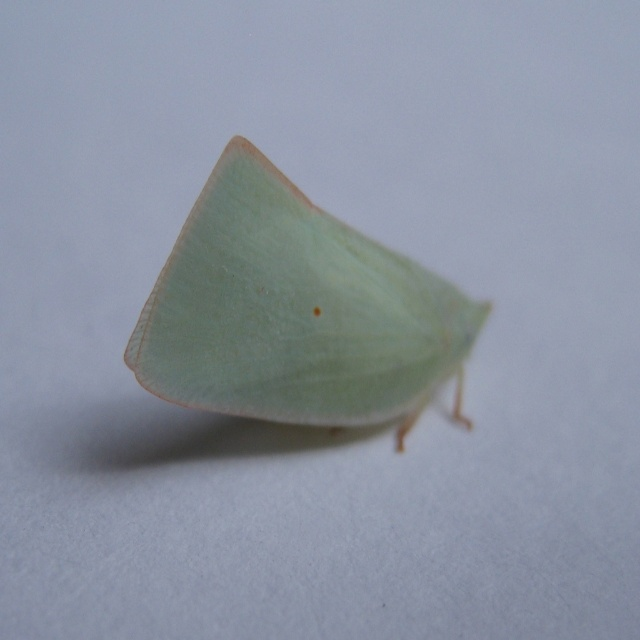Moths and butterflies: (123, 127, 497, 464)
